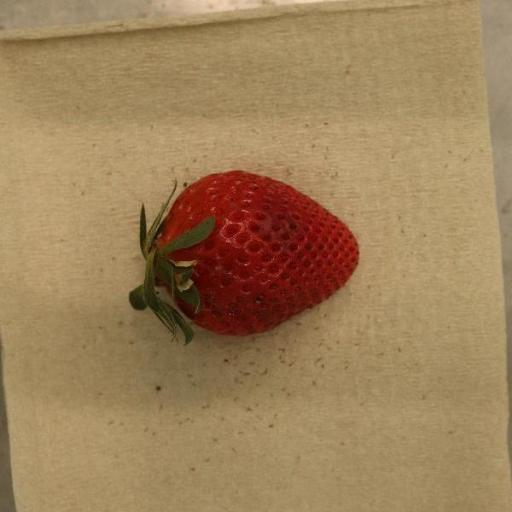Strawberry: (128, 171, 361, 346)
